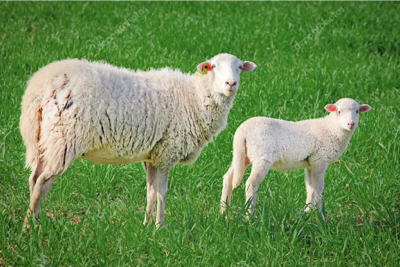koyun: (22, 50, 255, 230), (219, 98, 371, 217)
